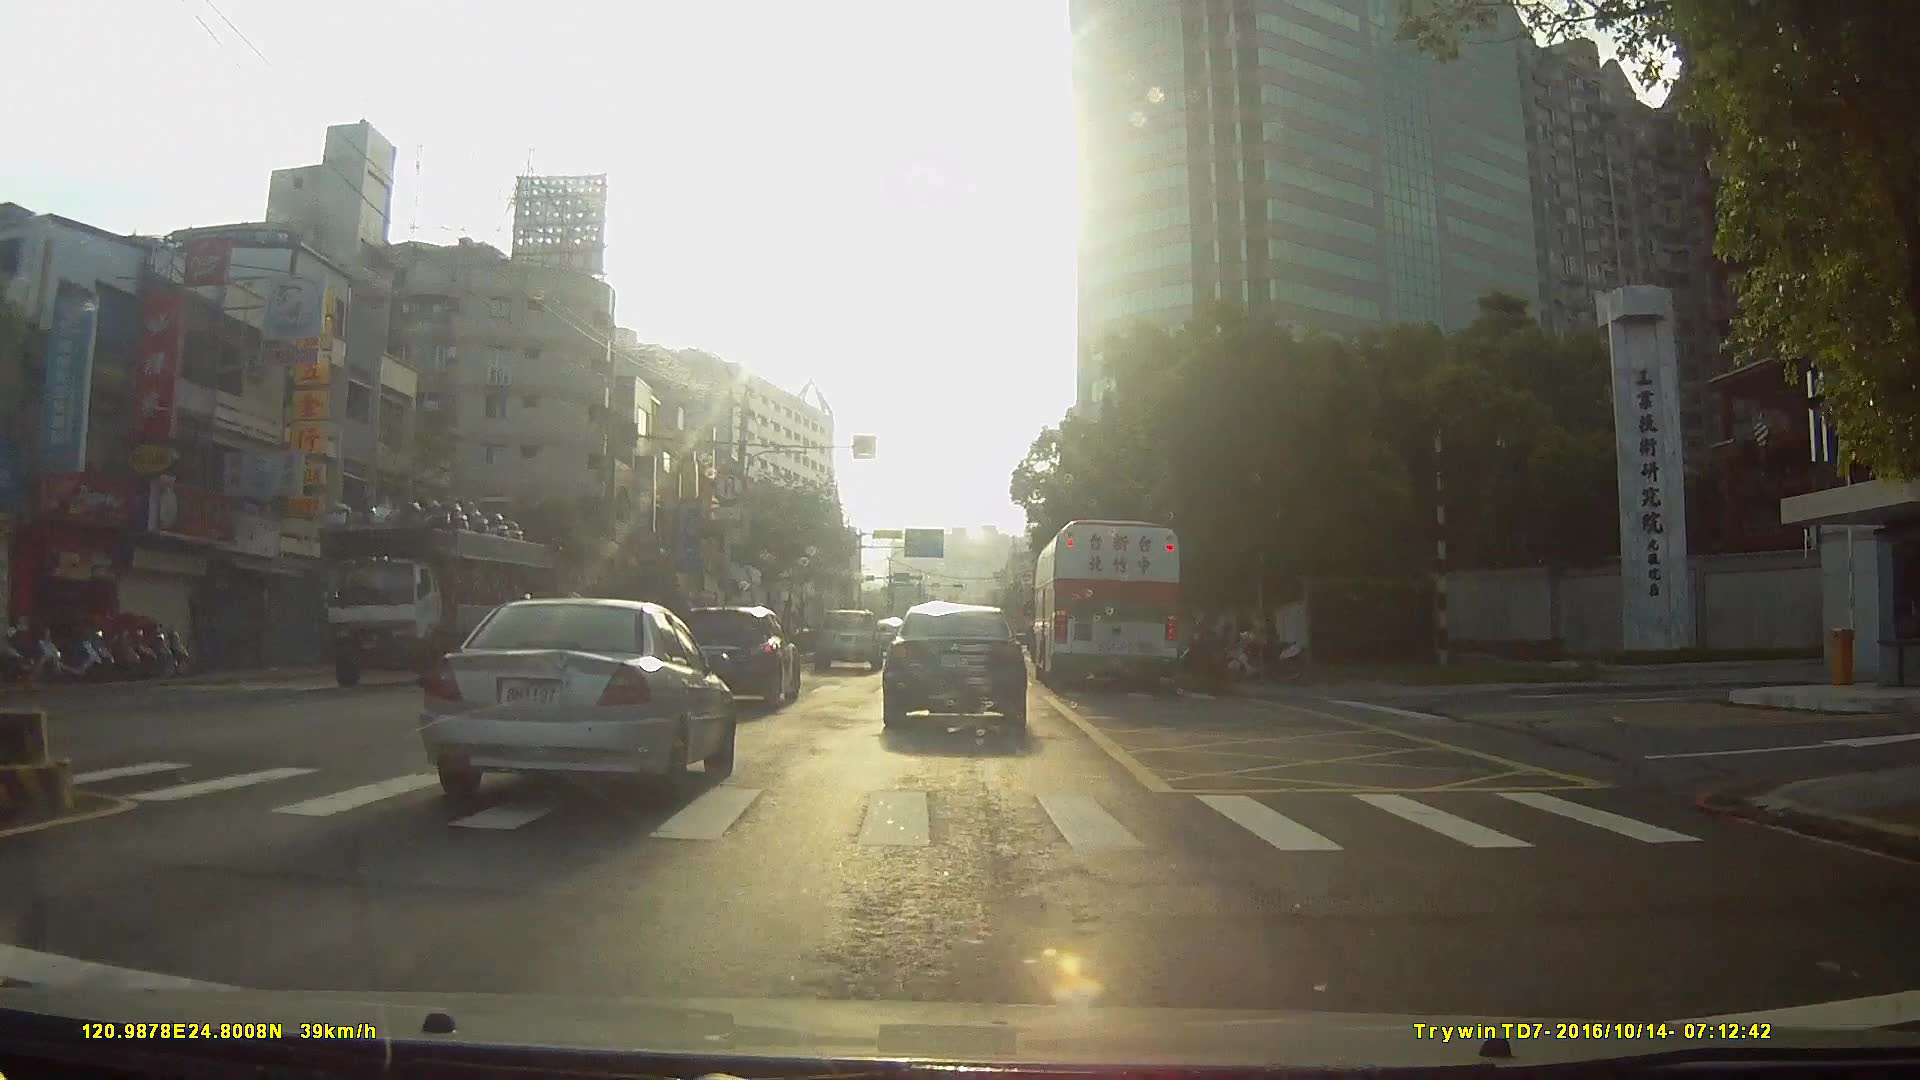vehicle: (409, 595, 732, 808), (310, 477, 560, 702), (1033, 513, 1184, 692), (878, 599, 1026, 732), (673, 607, 800, 709), (814, 607, 884, 673)
